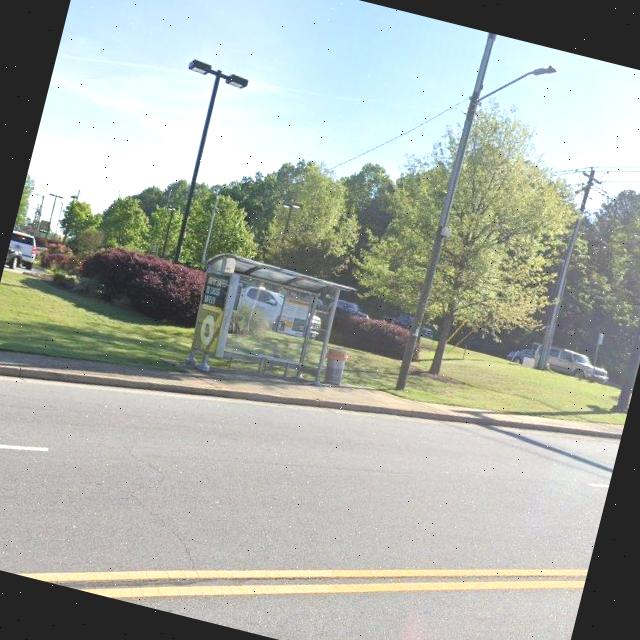seating: (250, 348, 302, 384)
shelter: (177, 248, 358, 404)
trash_can: (322, 348, 348, 388)
